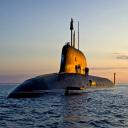submarine: (6, 17, 119, 101)
